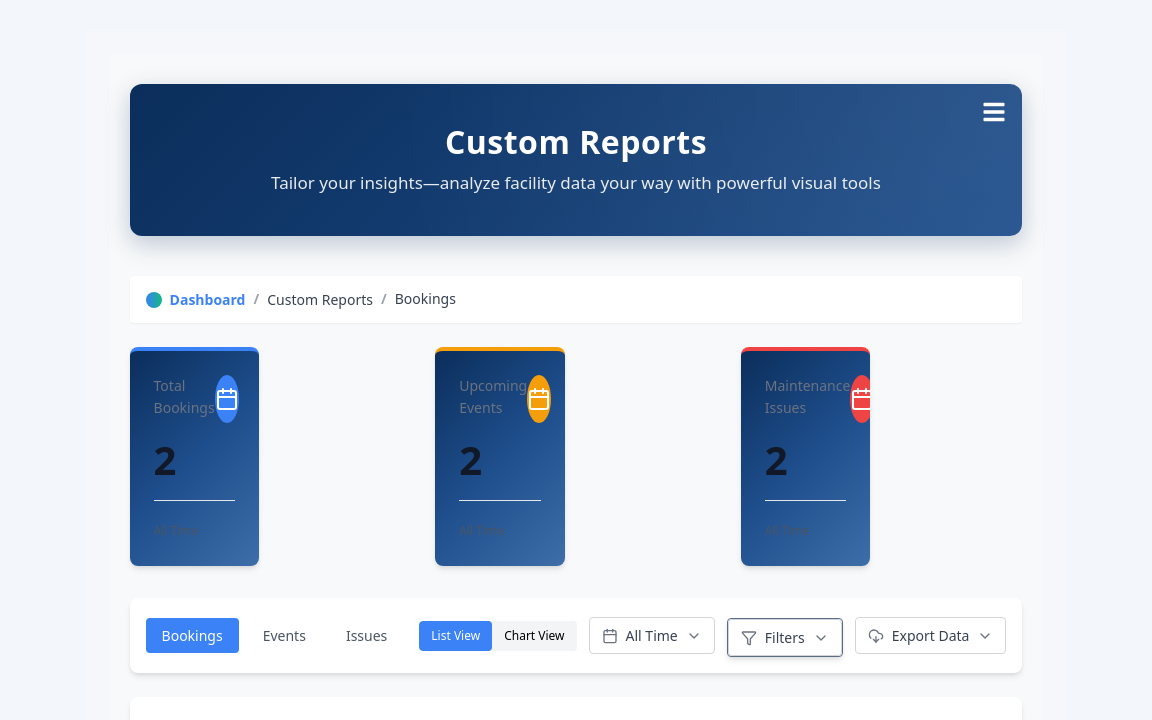
CustomView Component › switches between tabs correctly
The image size is (1152, 720).
Switch to Events tab
Click the button "Events" at [284, 636], box 247,618 -> 322,653
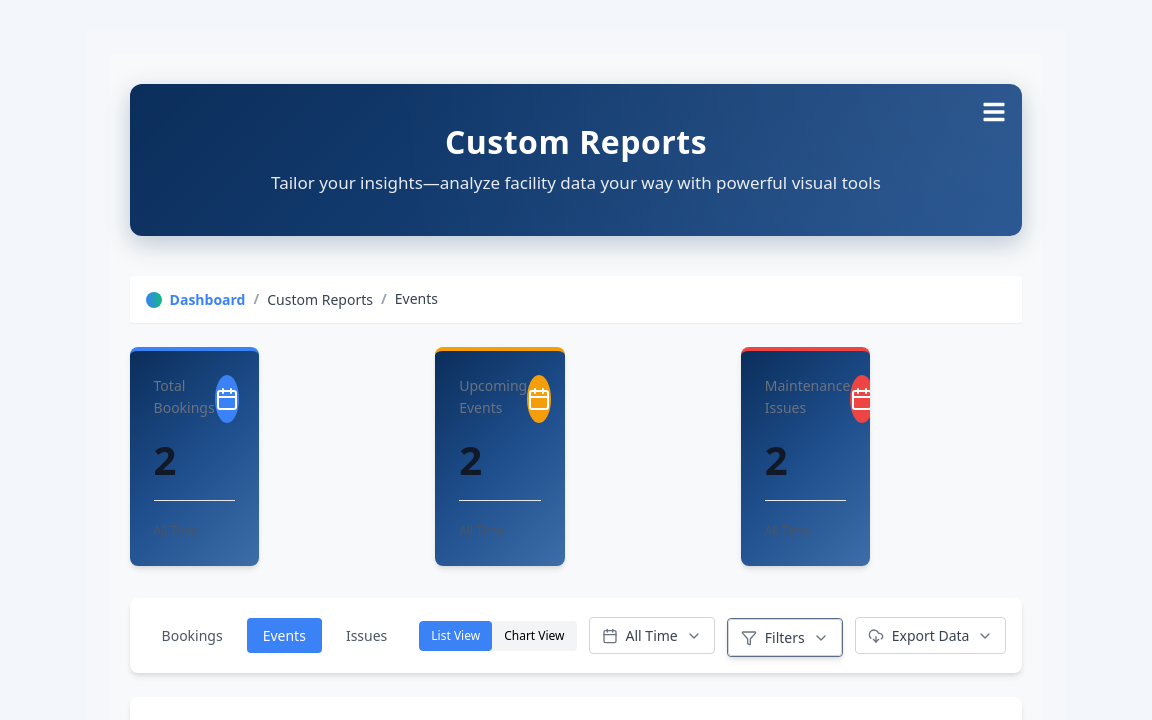
Switch to Issues tab
Click the button "Issues" at [367, 636], box 330,618 -> 403,653
(page scrolled)
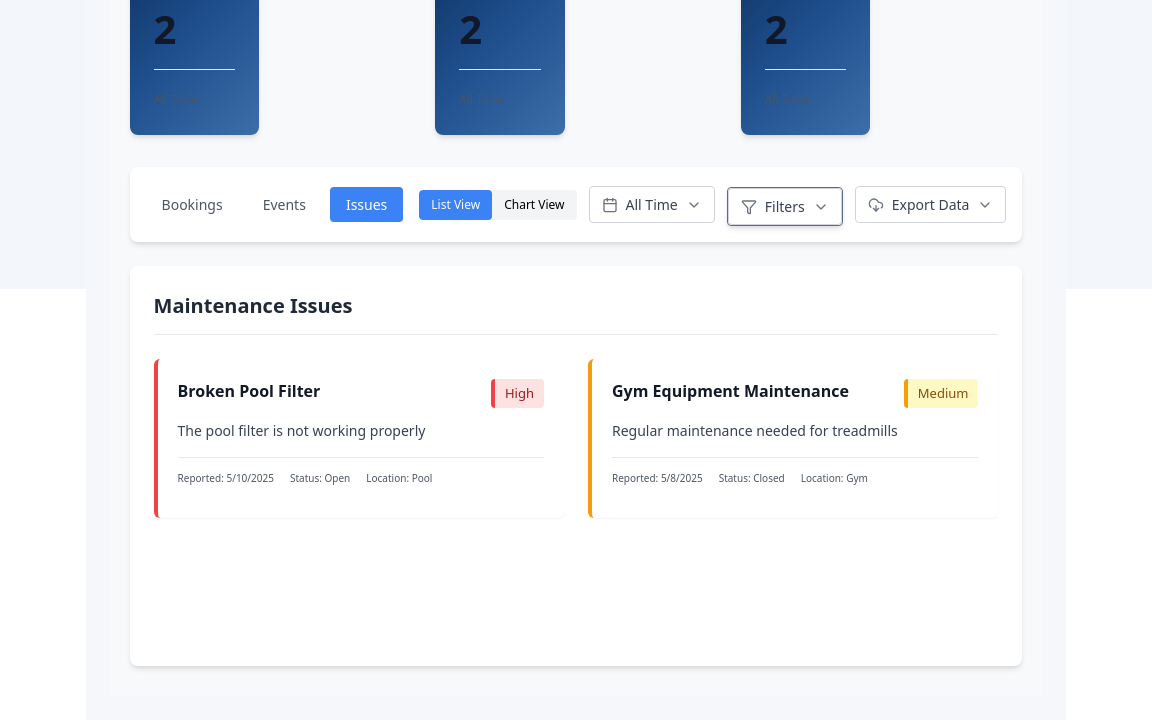
Check: the heading "Maintenance Issues" is shown, box 154,290 -> 998,335
Check: the heading "Broken Pool Filter" is shown, box 178,379 -> 320,405
Check: the heading "Gym Equipment Maintenance" is shown, box 612,379 -> 849,405
